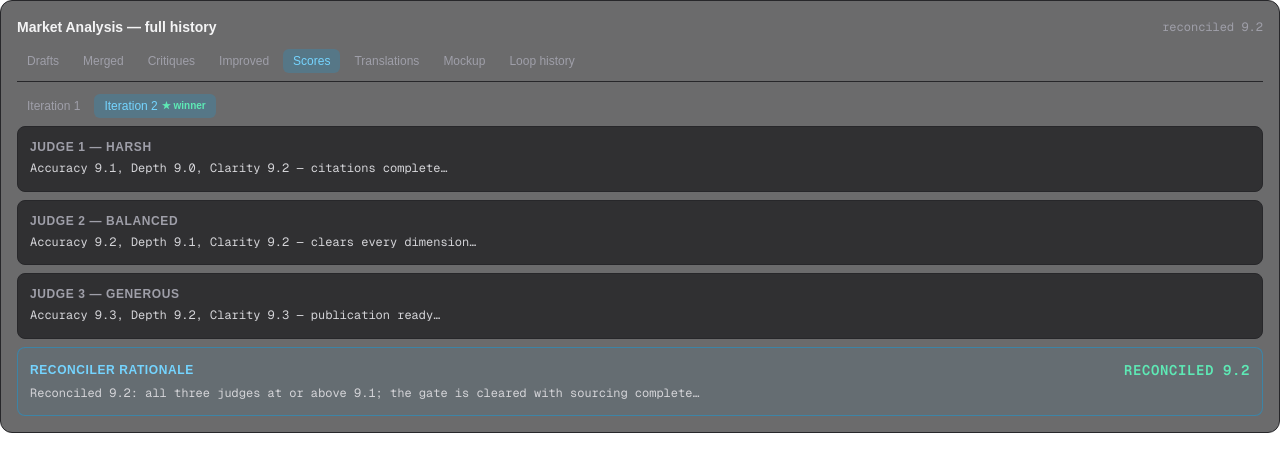
Scenario: StageDetailPanel › renders judge scores with dimension breakdowns on the scores tab
Expected: the text "★ winner" is shown, left=162, top=99, right=206, bottom=113
Expected: the element with test id "score-judge-harsh" shows "Accuracy 9.1", left=30, top=160, right=448, bottom=176
Click the tab with test id "round-1".
click(54, 106)  # box left=17, top=94, right=90, bottom=118
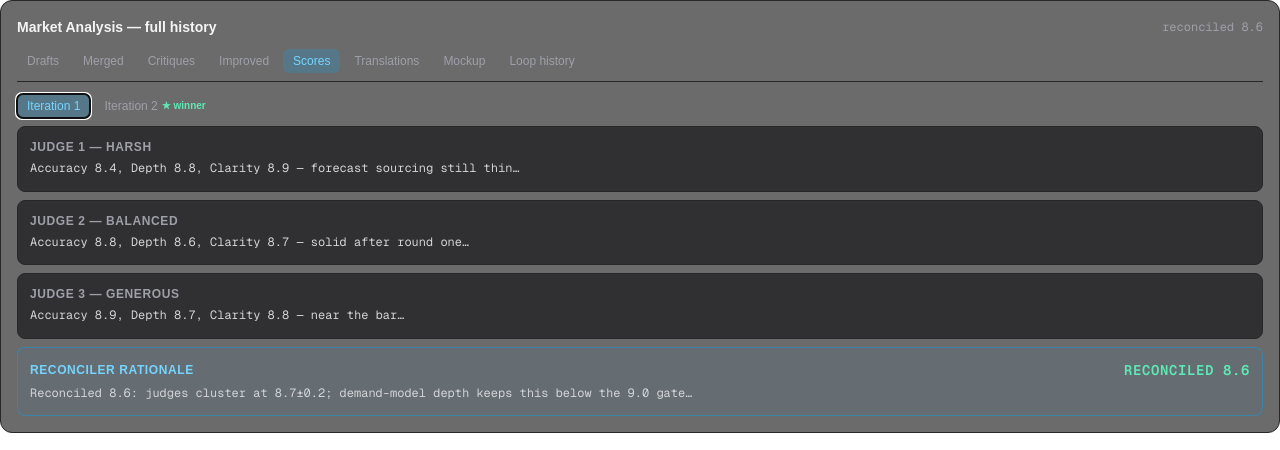
Now the element with test id "score-judge-harsh" shows "Accuracy 8.4", box left=30, top=160, right=520, bottom=176
Now the element with test id "reconciler-rationale" shows "reconciled 8.6", box left=1124, top=360, right=1250, bottom=378
